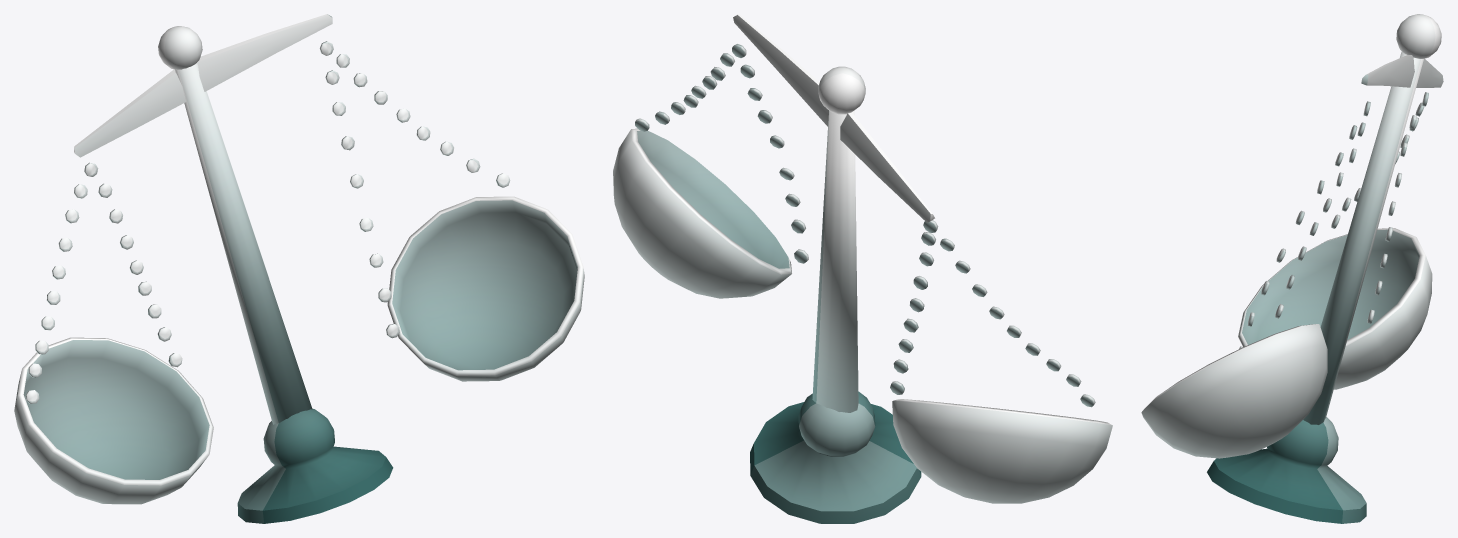
Rendered from Integrity_Balance.fbx.
3 renders of one model, left to right at view 1: azimuth 30°, elevation 25°; view 2: azimuth 150°, elevation 25°; view 3: azimuth 270°, elevation 25°, orthographic. The views are drawn at different scales.
Parts seen in each view (by area): view 1: Integrity_Balance; view 2: Integrity_Balance; view 3: Integrity_Balance.
Part boxes in pixels (x1,y1,x2,y2): Integrity_Balance: [14, 14, 584, 523]; Integrity_Balance: [613, 14, 1112, 523]; Integrity_Balance: [1141, 14, 1443, 523].
Size of the model in its own units: 18.9 by 16.82 by 9.81.
